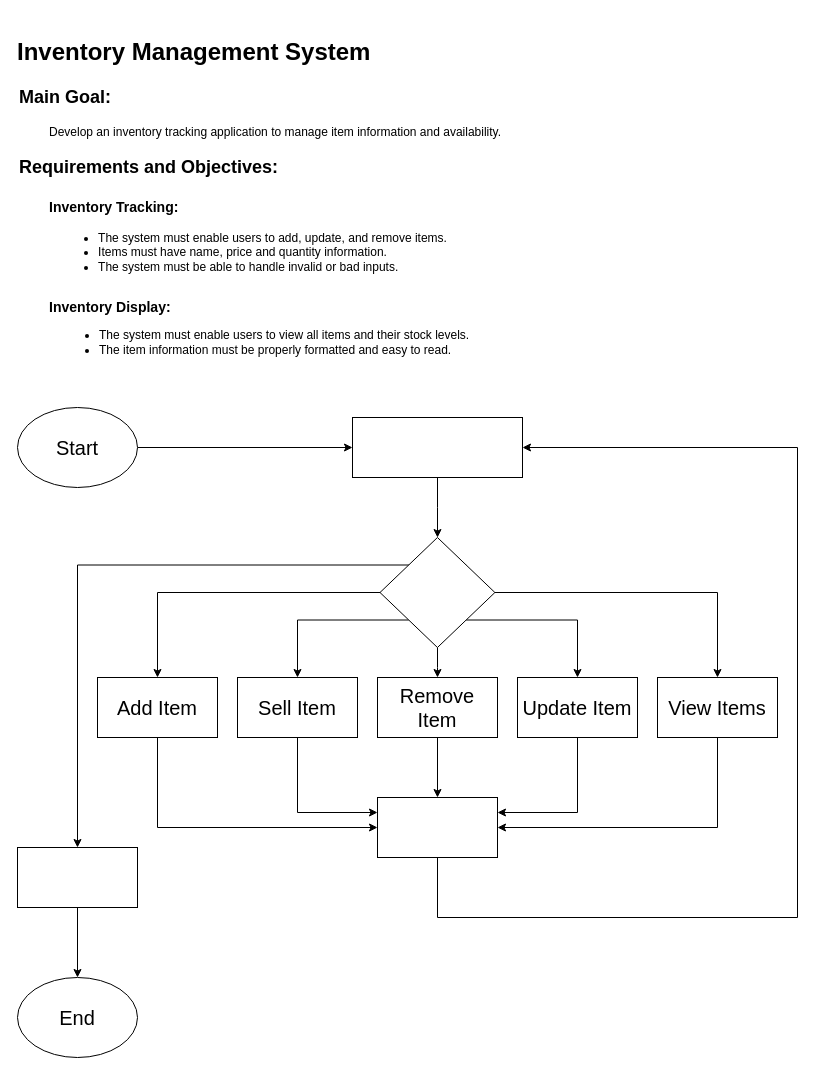
Some shapes in this 823 by 1075 pixel diagram are drawn without their labels. The shapes that lost their labels are listed below. From the top down, each one's centre as x and y in pixels, then its label:
At [437,447]: "Display Menu Options".
At [437,592]: "Select Option".
At [437,827]: "Display Items".
At [77,877]: "Exit".
